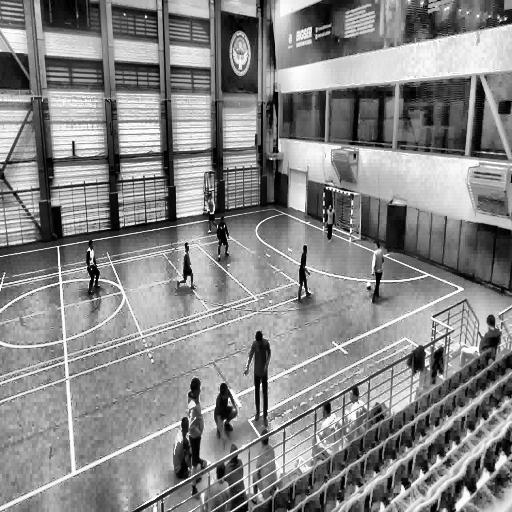ball: (366, 279, 372, 290)
player: (244, 329, 270, 428), (184, 378, 204, 473), (214, 380, 239, 453), (177, 240, 197, 290), (296, 244, 311, 303), (86, 240, 101, 292), (371, 241, 383, 303), (216, 215, 230, 261), (325, 202, 334, 246), (206, 194, 216, 230)
